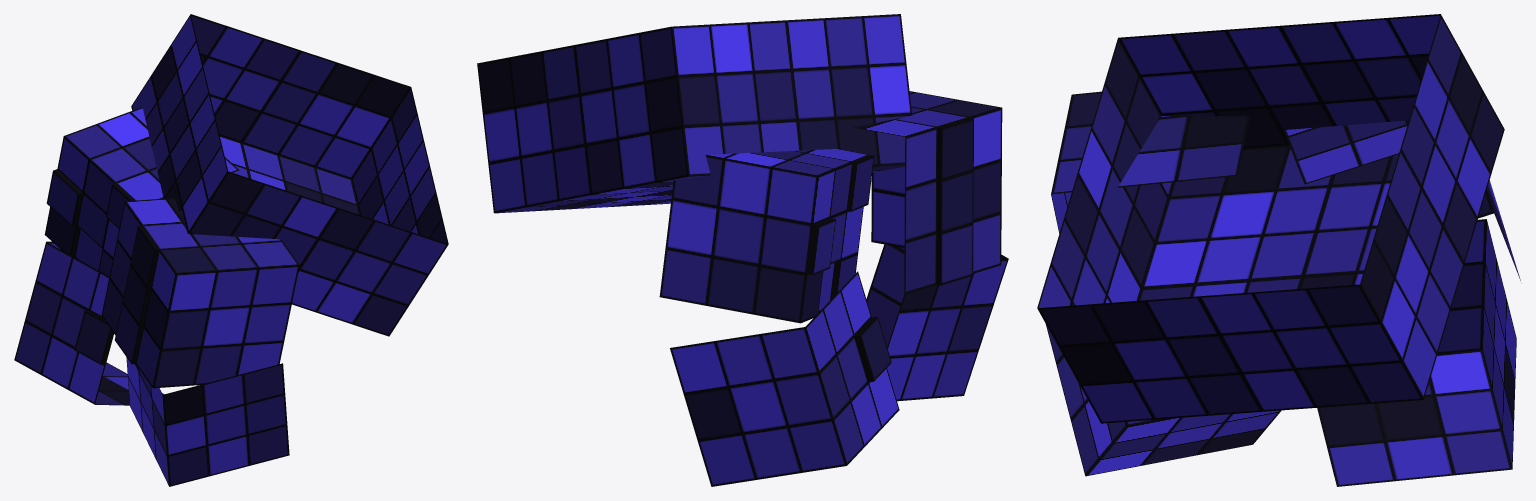
The model's file is c_bricks_cracked.glb.
The picture shows the model from 3 angles, left to right: view 1: azimuth 30°, elevation 25°; view 2: azimuth 150°, elevation 25°; view 3: azimuth 270°, elevation 25°; orthographic projection. The views are drawn at different scales.
Visible parts, largest first — view 1: C_BricksCracked; view 2: C_BricksCracked; view 3: C_BricksCracked.
Part boxes in pixels (x1,y1,x2,y2): C_BricksCracked: [14, 14, 448, 486]; C_BricksCracked: [477, 14, 1008, 486]; C_BricksCracked: [1037, 14, 1520, 486].
Bounding box in the file's own units: 3.01 × 2.91 × 2.54.
1 material, 1 textured.
